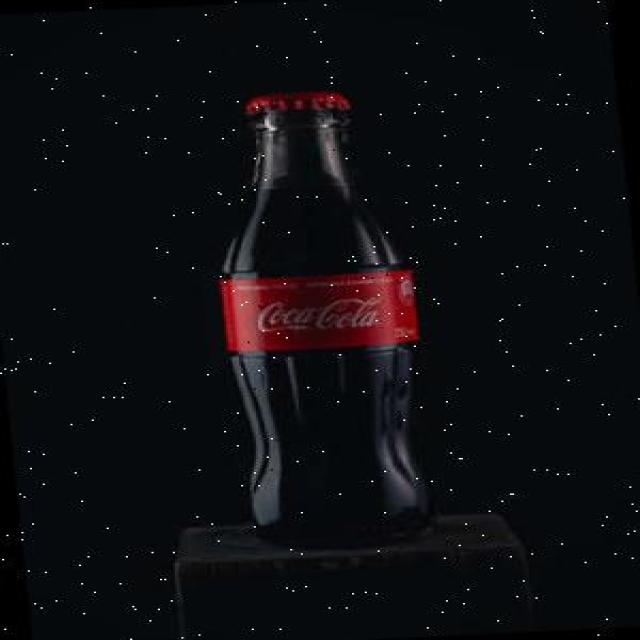coca-cola: (186, 82, 442, 548)
